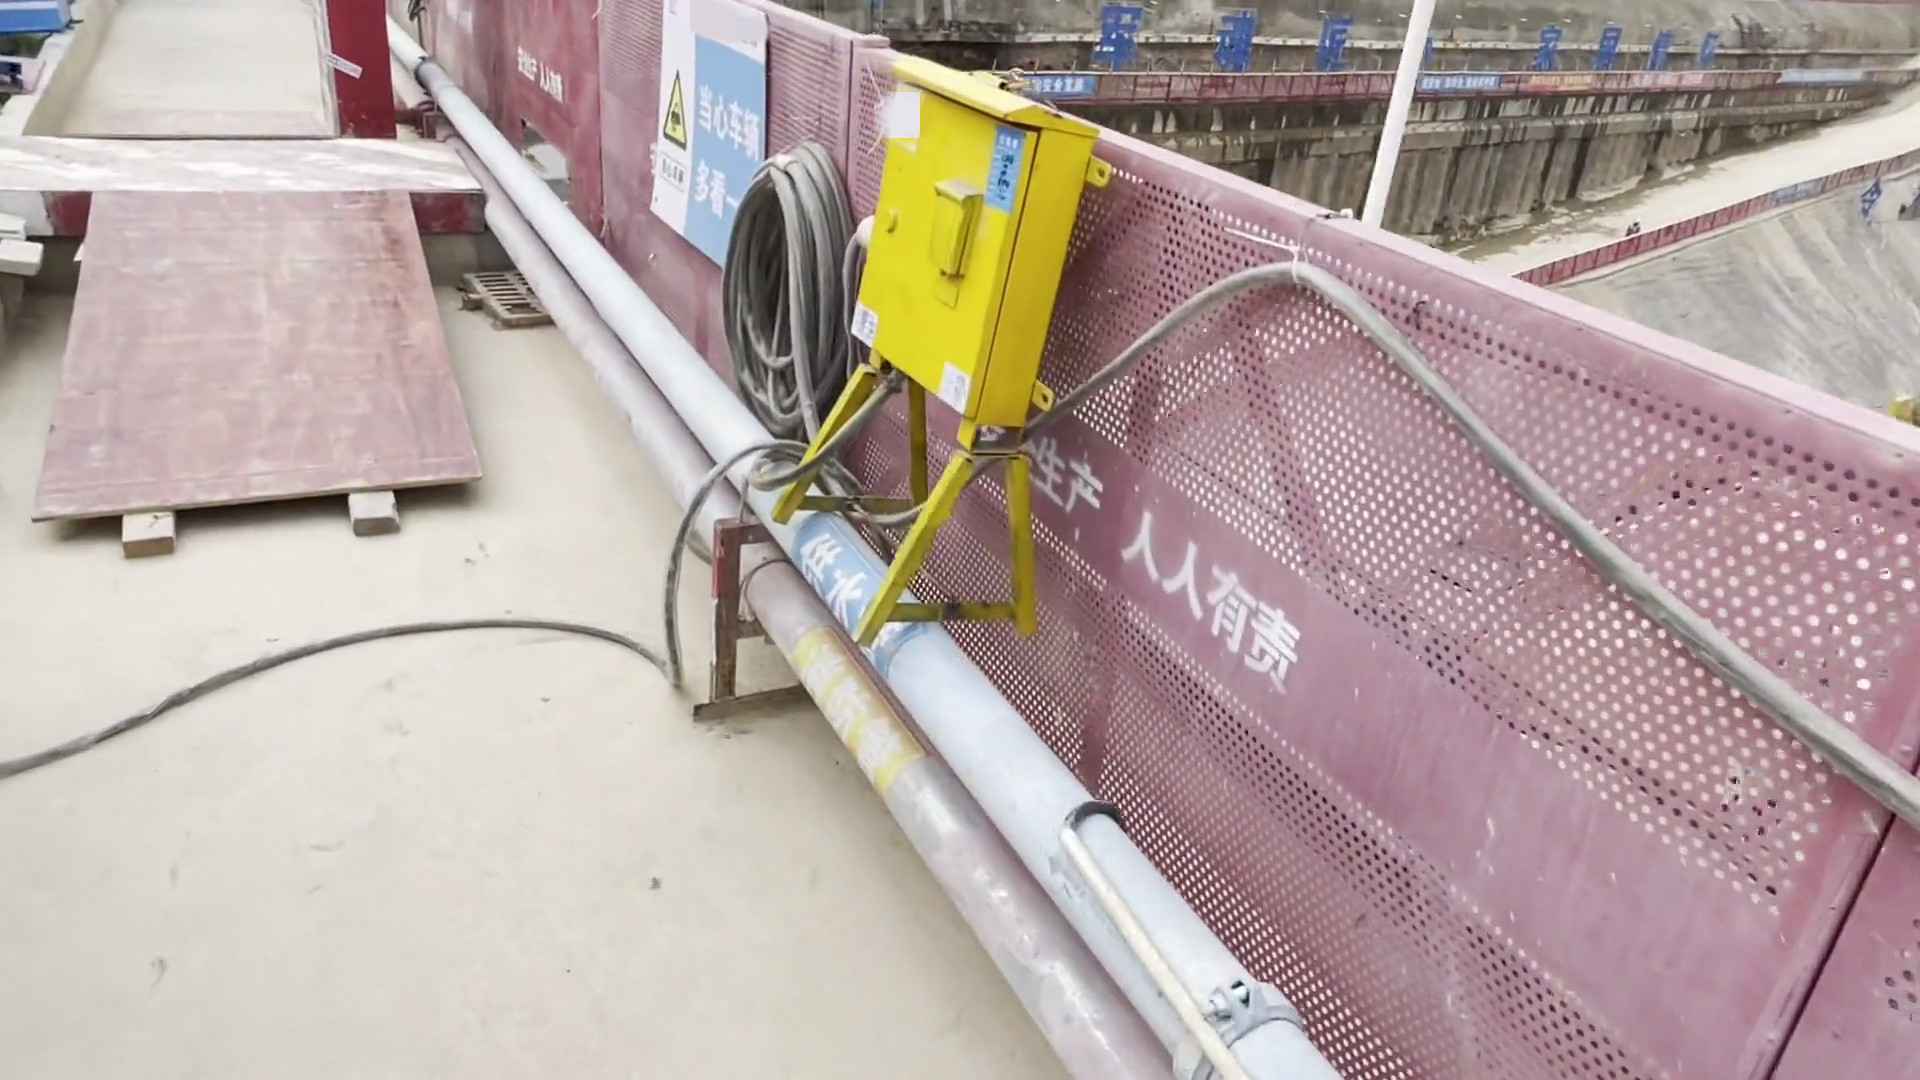board: (37, 157, 563, 541)
ebox: (819, 32, 1114, 671)
fence: (1234, 190, 1920, 1068)
slogan: (644, 1, 785, 255)
